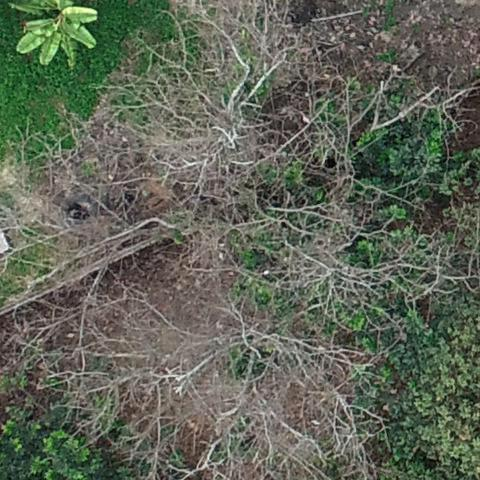Banana-plant: (6, 0, 97, 71)
